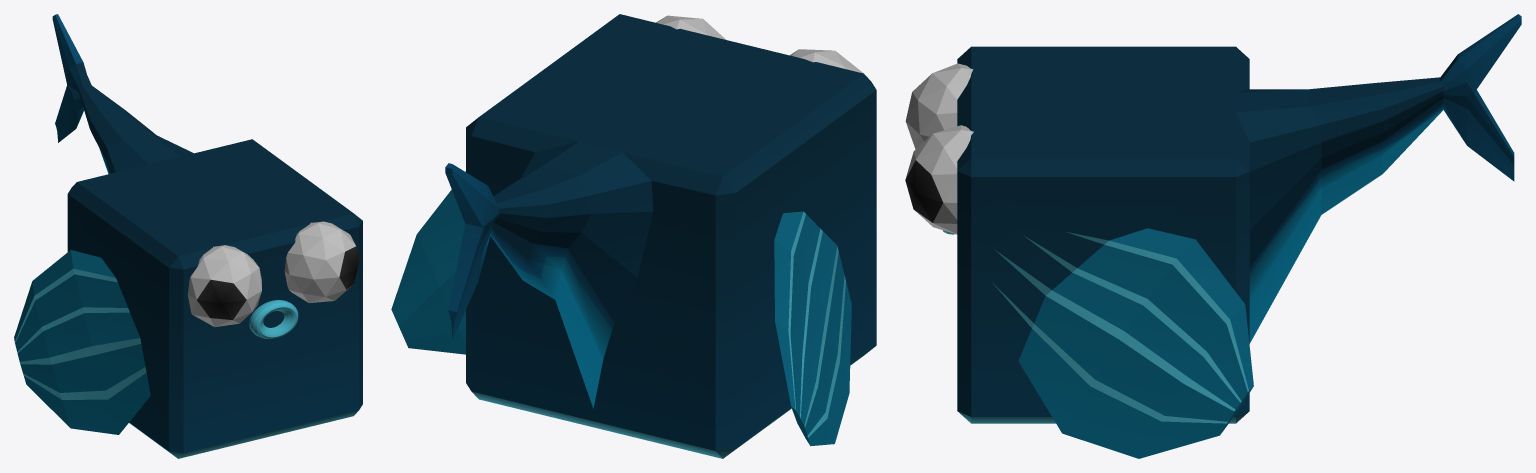
File: cube_fish.glb
The picture shows the model from 3 angles, left to right: view 1: azimuth 30°, elevation 25°; view 2: azimuth 150°, elevation 25°; view 3: azimuth 270°, elevation 25°; orthographic projection. The views are drawn at different scales.
Parts seen in each view (by area): view 1: Cube.119, eye.shaded.027, eye.shaded.028, Torus.006; view 2: Cube.119, eye.shaded.028, eye.shaded.027; view 3: Cube.119, eye.shaded.027, eye.shaded.028.
Boxes of the visible parts, x1,y1,x2,y2 form: Cube.119: (14,14,362,458); eye.shaded.027: (284,221,359,302); eye.shaded.028: (187,245,261,326); Torus.006: (249,300,298,338); Cube.119: (391,14,876,458); eye.shaded.028: (790,49,863,73); eye.shaded.027: (656,15,725,39); Cube.119: (957,14,1521,458); eye.shaded.027: (905,125,973,234); eye.shaded.028: (905,63,973,149).
Size of the model in its own units: 2.41 by 2.18 by 3.37.
Materials: 4 (4 with a texture image).
